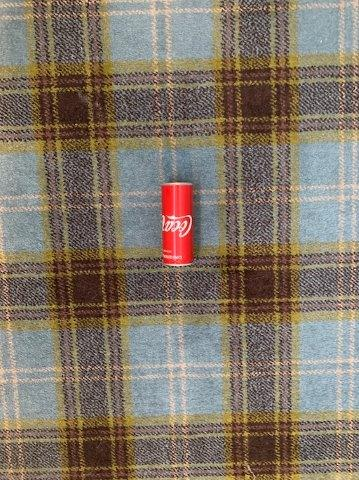kaleng: (161, 182, 195, 266)
